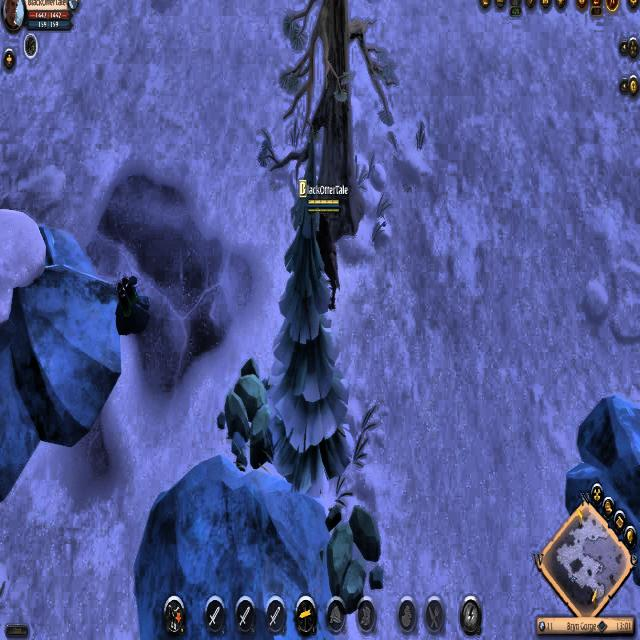sandstone: (322, 498, 386, 613), (221, 354, 282, 474)
tinore: (111, 272, 155, 336)
